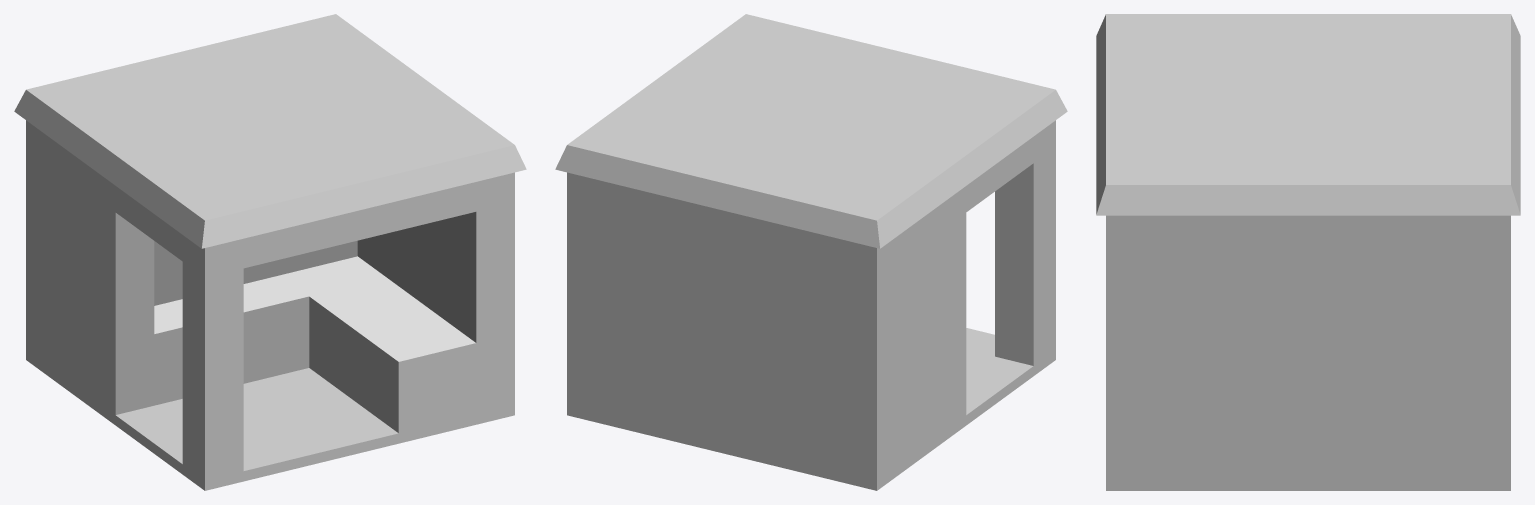
Rendered from dprop_buildings.fbx.
The picture shows the model from 3 angles, left to right: view 1: azimuth 30°, elevation 25°; view 2: azimuth 150°, elevation 25°; view 3: azimuth 270°, elevation 25°; orthographic projection. The views are drawn at different scales.
Visible parts, largest first — view 1: building_block_D; view 2: building_block_D; view 3: building_block_D.
Part boxes in pixels (left/top/right/bottom): building_block_D: left=14, top=14, right=526, bottom=490; building_block_D: left=555, top=14, right=1067, bottom=490; building_block_D: left=1096, top=14, right=1520, bottom=490.
Size of the model in its own units: 315 by 250 by 315.
